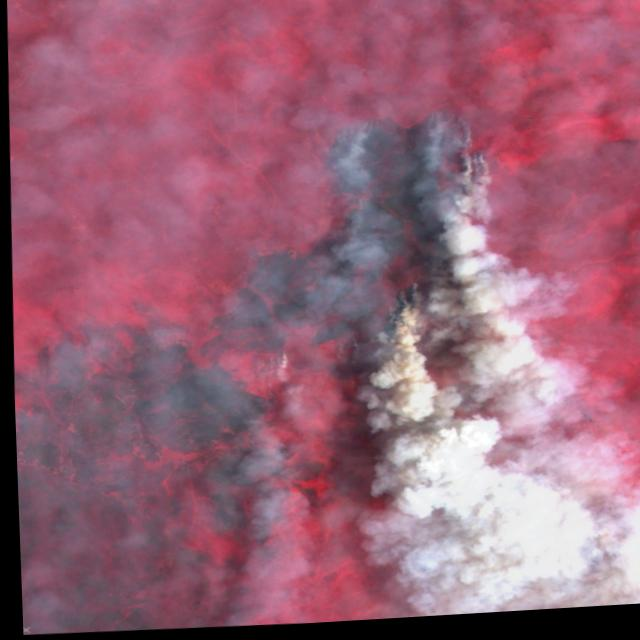fire: (231, 105, 498, 385)
